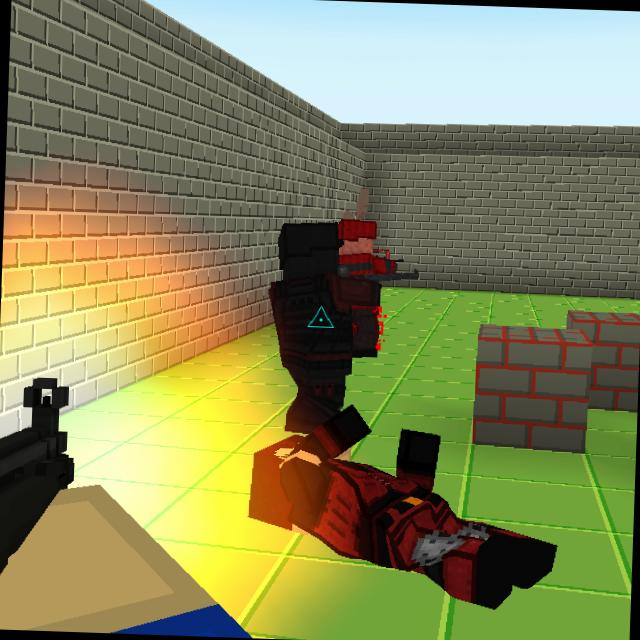enemy: (258, 214, 384, 439), (328, 211, 402, 368)
